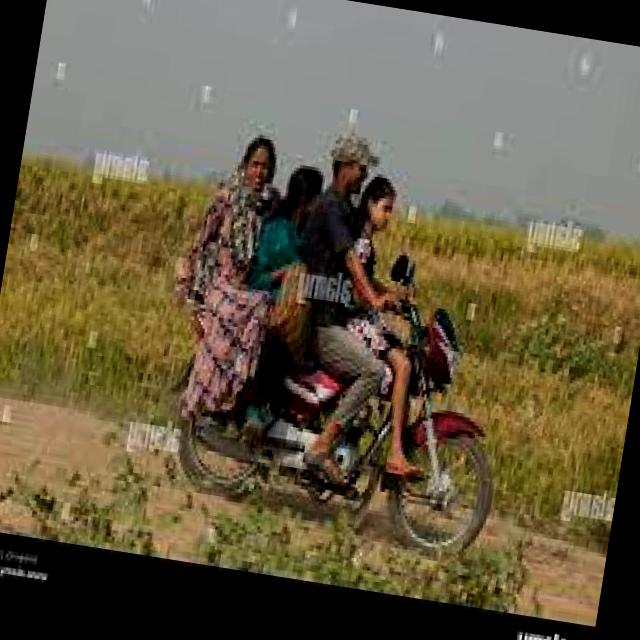motorcycle: (143, 254, 530, 565)
person: (264, 106, 392, 385), (312, 161, 448, 411), (178, 115, 292, 332), (235, 146, 345, 361)
rider_region: (148, 95, 549, 558)
